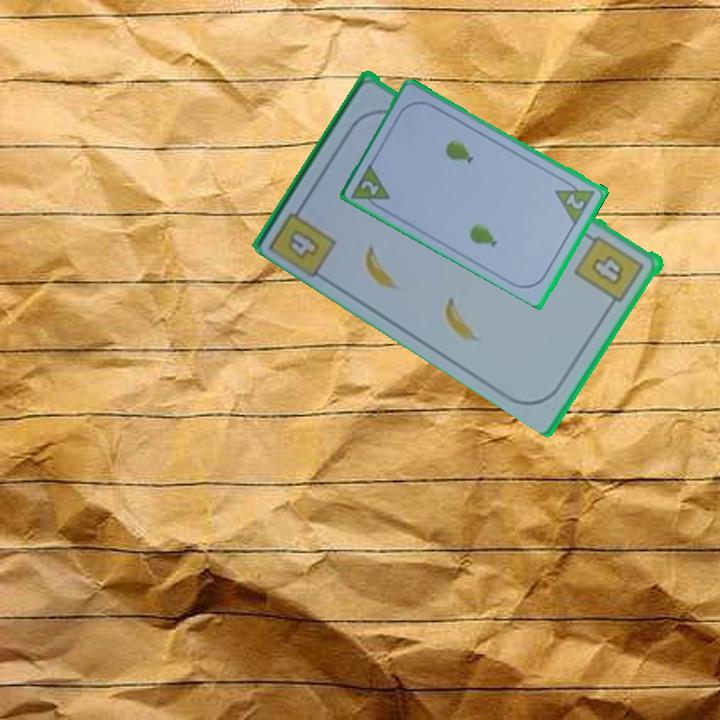2p: (552, 175, 599, 226), (358, 176, 383, 198)
4b: (266, 196, 341, 279), (571, 232, 648, 311)
